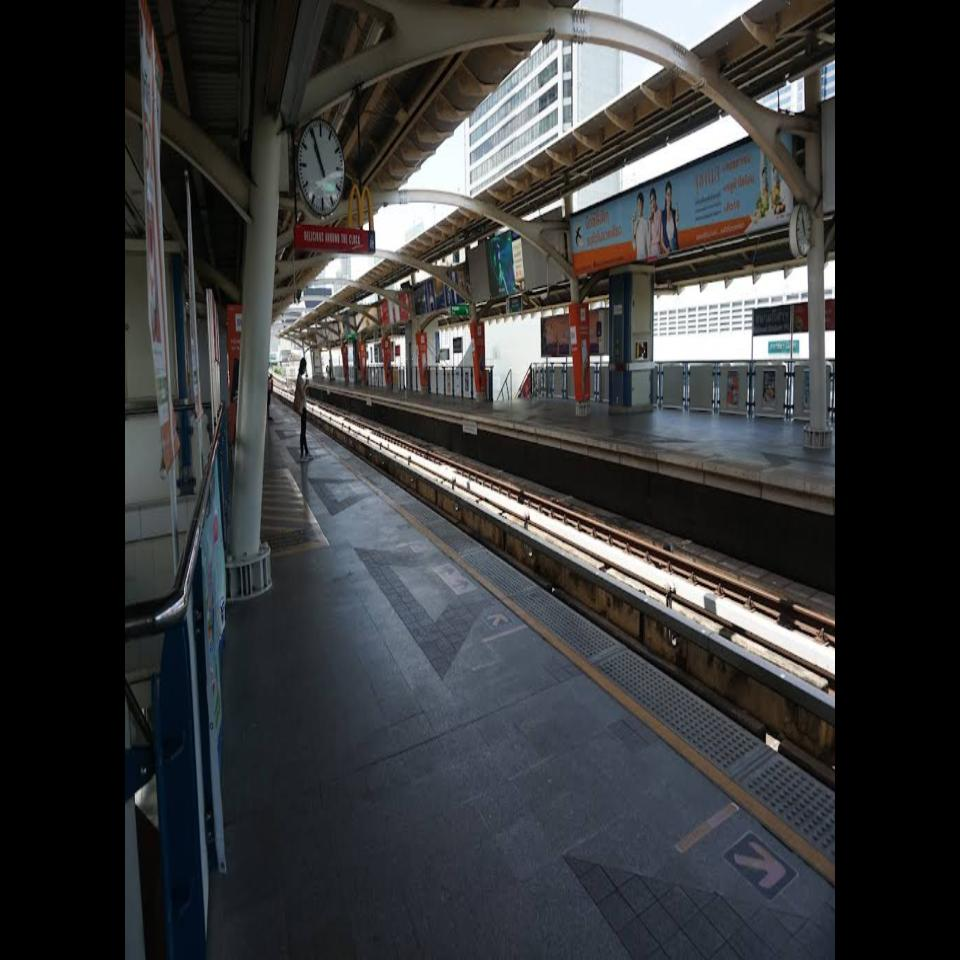signage: (752, 302, 792, 337)
